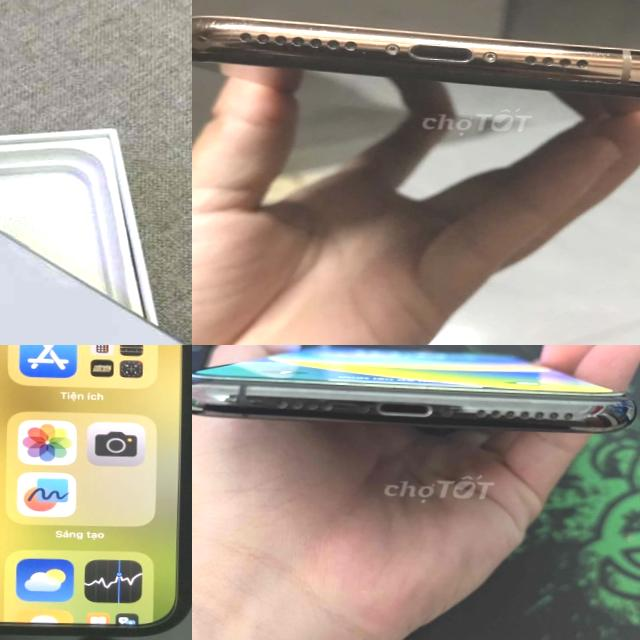scratch: (192, 13, 634, 91)
